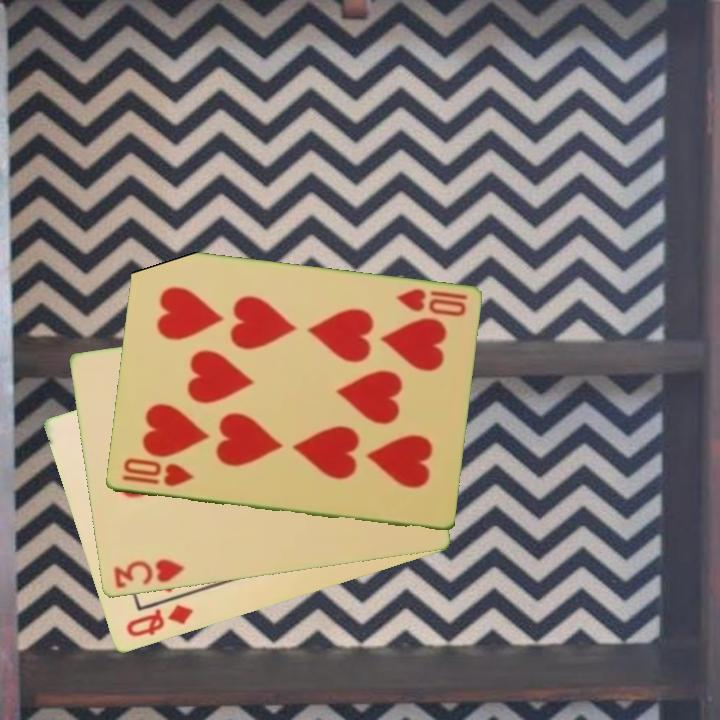10h: (118, 455, 196, 490), (392, 285, 470, 320)
3h: (109, 556, 187, 592)
Qd: (122, 601, 197, 641)
